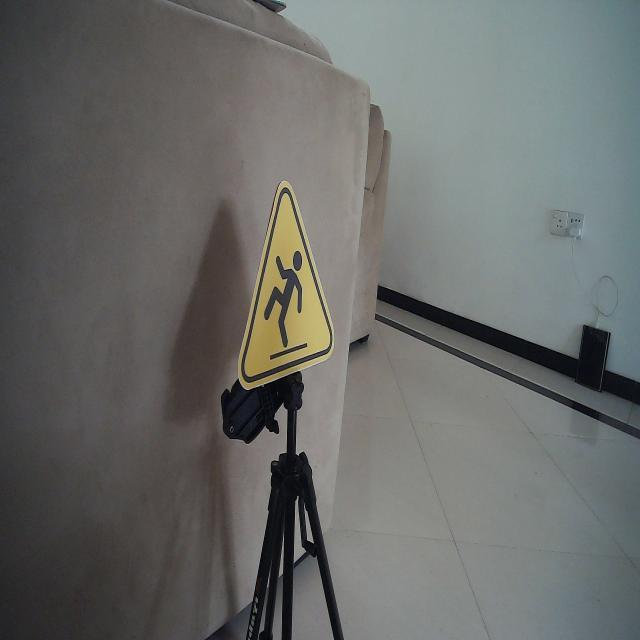slippery_sign: (236, 178, 336, 392)
